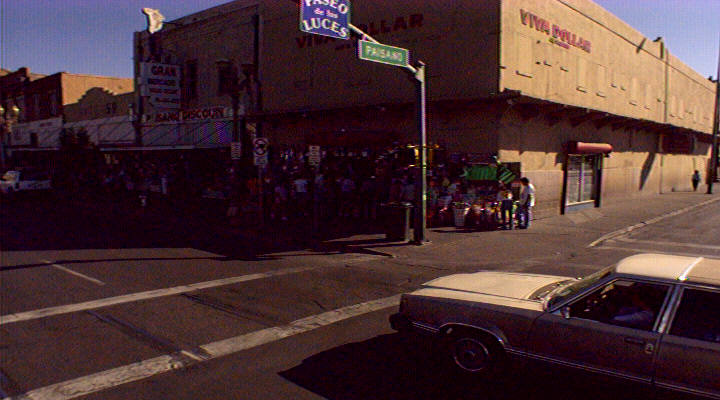Ramp: (356, 221, 607, 270)
